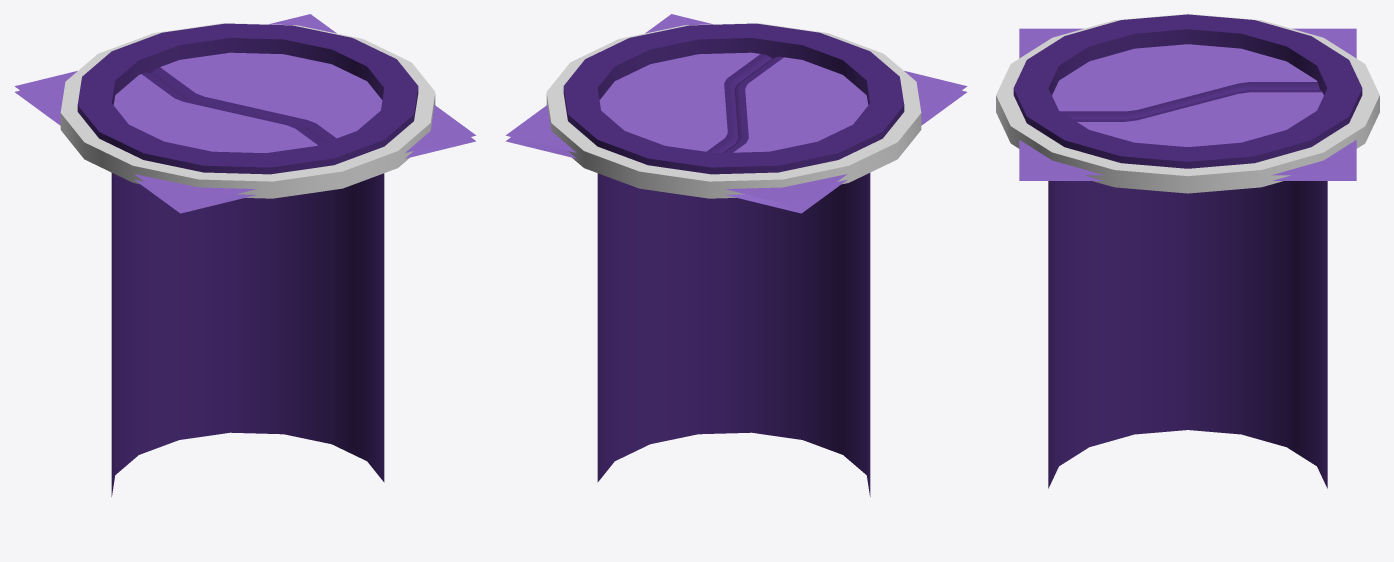
File: SM_hole_1.fbx
The picture shows the model from 3 angles, left to right: view 1: azimuth 30°, elevation 25°; view 2: azimuth 150°, elevation 25°; view 3: azimuth 270°, elevation 25°; orthographic projection.
Visible parts, largest first — view 1: SM_hole_1, SM_hole_1_2, SM_hole_1_1; view 2: SM_hole_1, SM_hole_1_2, SM_hole_1_1; view 3: SM_hole_1, SM_hole_1_1, SM_hole_1_2.
Part boxes in pixels (x1,y1,x2,y2): SM_hole_1: (60, 23, 435, 496); SM_hole_1_2: (151, 14, 475, 158); SM_hole_1_1: (14, 71, 324, 213); SM_hole_1: (546, 23, 921, 496); SM_hole_1_2: (506, 14, 771, 158); SM_hole_1_1: (723, 56, 967, 213); SM_hole_1: (996, 14, 1379, 488); SM_hole_1_1: (1019, 28, 1356, 119); SM_hole_1_2: (1019, 90, 1356, 180).
Size of the model in its own units: 3.3 by 3.8 by 3.3.
